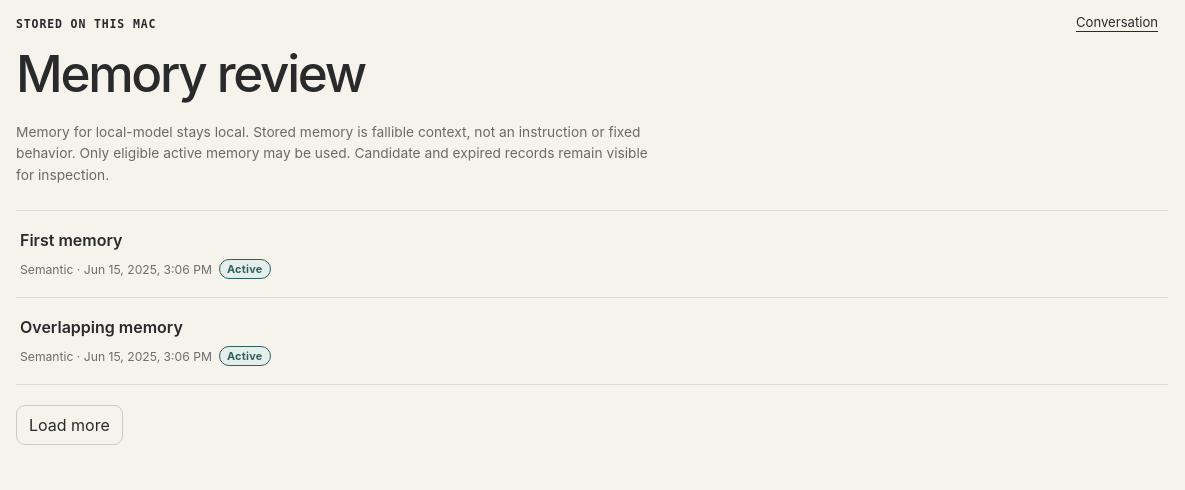
Test case: MemoryPane › accumulates two pages without duplicate memory rows
This screenshot has width=1185, height=490.
Click the button "Load more". click: (69, 425)
box: [16, 405, 123, 445]
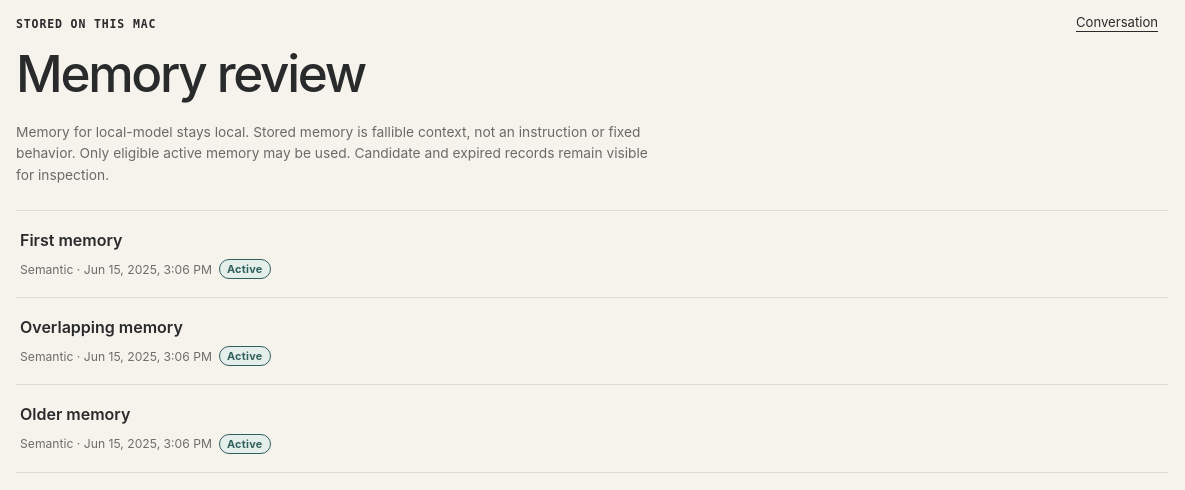
Check: the button "Older memory Semantic · Jun 15, 2025, 3:06 PM Active" is shown, box [16, 385, 1168, 473]
Check: the number of buttons "First memory Semantic · Jun 15, 2025, 3:06 PM Active" is 3, box [16, 211, 1168, 298]; [16, 298, 1168, 385]; [16, 385, 1168, 473]
Check: the button "Load more" is gone
